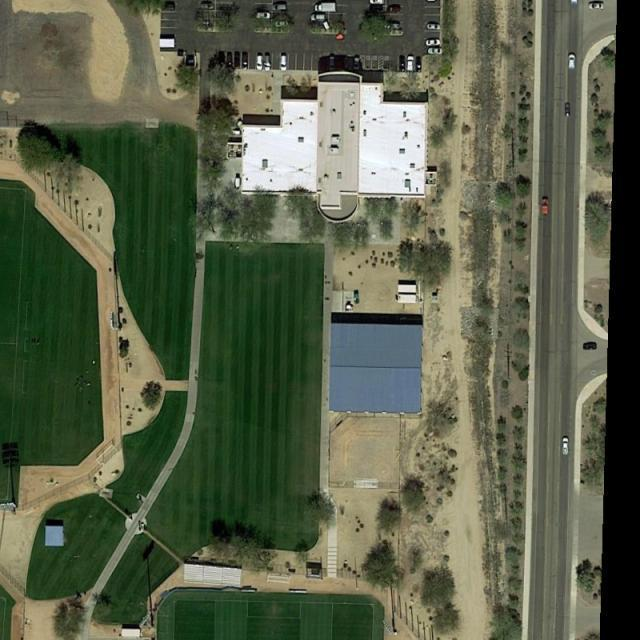vehicle: (314, 2, 338, 11), (234, 50, 242, 70), (226, 50, 234, 70), (567, 54, 576, 71), (329, 54, 338, 71), (159, 2, 178, 10), (562, 438, 570, 456), (542, 198, 550, 216), (588, 2, 606, 10), (407, 56, 415, 74), (280, 54, 288, 72), (198, 2, 215, 10), (387, 5, 402, 14), (310, 14, 329, 21), (271, 3, 290, 10), (581, 342, 597, 350), (256, 53, 263, 71), (425, 39, 442, 46), (242, 52, 248, 71), (426, 23, 442, 30), (399, 56, 406, 72), (354, 54, 361, 70), (266, 53, 272, 71), (387, 22, 402, 29), (254, 13, 271, 19), (275, 21, 290, 27), (428, 48, 442, 54), (417, 58, 423, 72), (566, 102, 571, 118), (370, 1, 385, 5), (570, 1, 578, 5), (426, 1, 438, 2)
